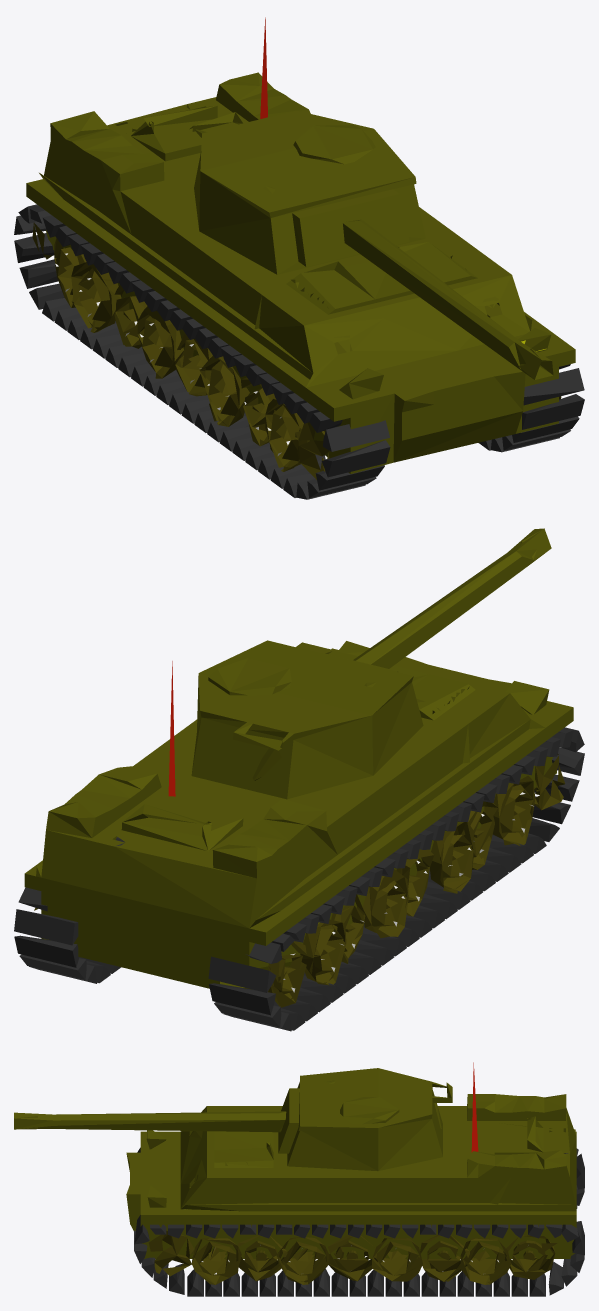
Rendered from cimpletoon.f32c67875649.armour.glb.
The picture shows the model from 3 angles, top to bottom: view 1: azimuth 30°, elevation 25°; view 2: azimuth 150°, elevation 25°; view 3: azimuth 270°, elevation 25°; orthographic projection. The views are drawn at different scales.
Parts seen in each view (by area): view 1: armour.glb; view 2: armour.glb; view 3: armour.glb.
Boxes of the visible parts, x1=… form: armour.glb: x1=14, y1=17, x2=584, y2=499; armour.glb: x1=14, y1=528, x2=584, y2=1031; armour.glb: x1=14, y1=1062, x2=584, y2=1296.
Bounding box in the file's own units: 1.21 × 1.34 × 3.33.
Materials: 1 (1 with a texture image).
